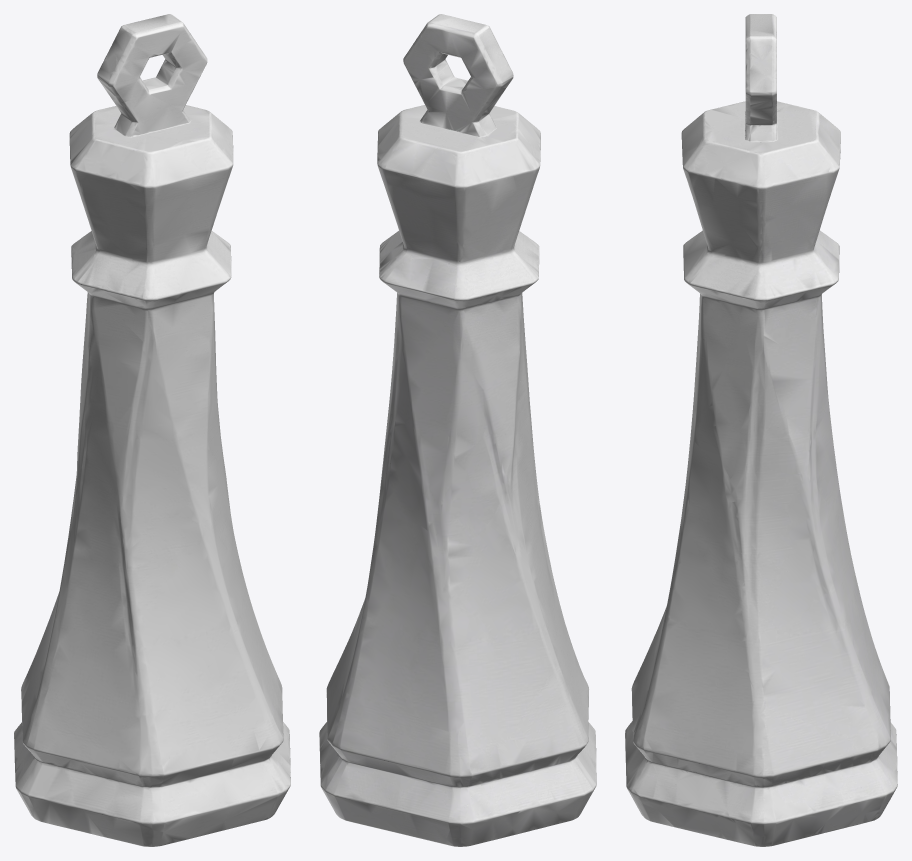
File: king-white-hd.glb
3 views of the same model, side by side, from view 1: azimuth 30°, elevation 25°; view 2: azimuth 150°, elevation 25°; view 3: azimuth 270°, elevation 25° (orthographic).
Bounding box in the file's own units: 0.5827 × 1.6 × 0.5173.
Materials: 1 (1 with a texture image).
